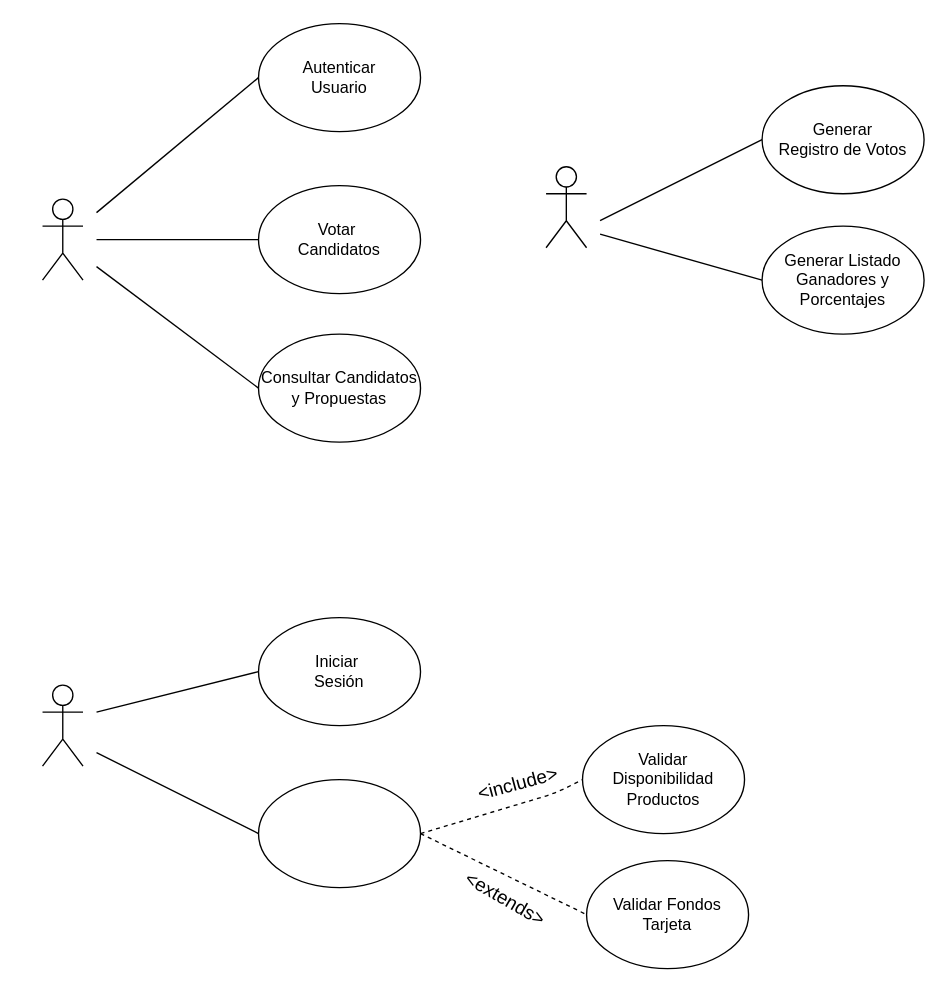
Some shapes in this 948 by 992 pixel diagram are drawn without their labels. The shapes that lost their labels are listed below. From the top down, each one's centre as x and y in pixels, then its label:
At pixel 566 206: "Comité de Votación".
At pixel 62 239: "Sufragante".
At pixel 62 725: "Vendedor".
At pixel 339 833: "Realizar Ventas".
